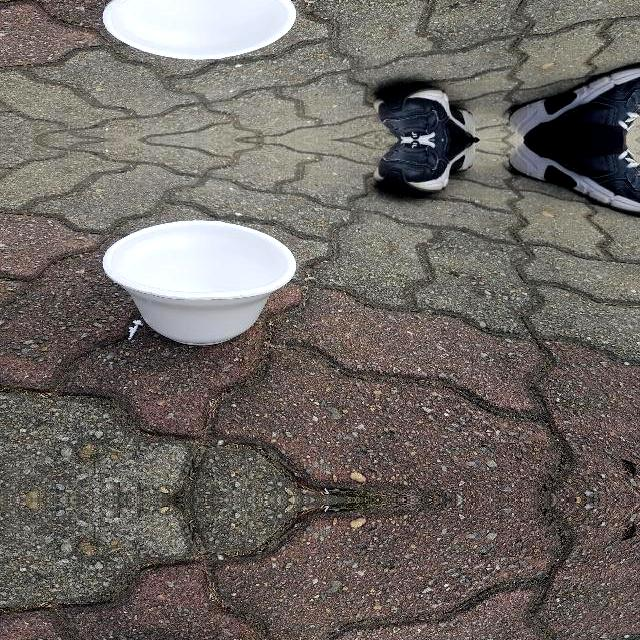Styrofoam: (100, 220, 296, 346), (102, 220, 296, 345), (100, 0, 296, 60), (102, 0, 296, 60)
